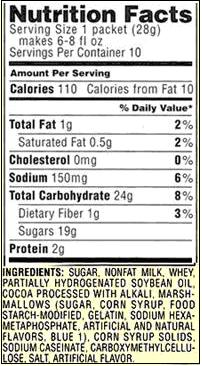ingredients: (0, 265, 200, 363)
